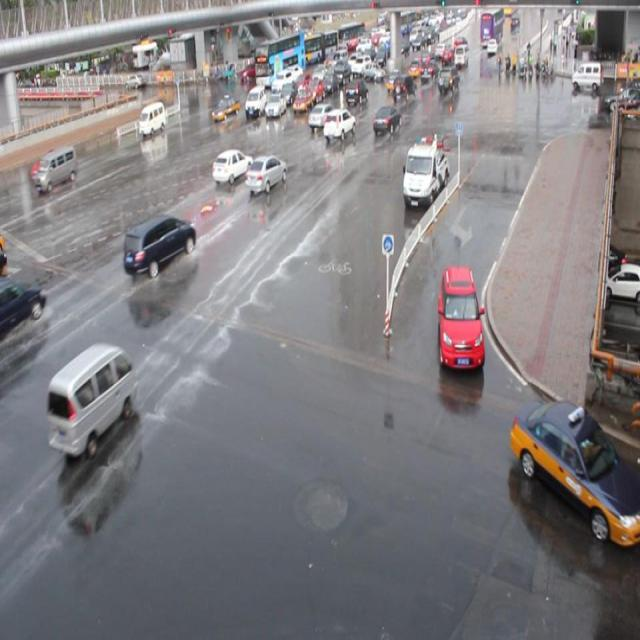bus: (401, 135, 448, 203)
car: (509, 395, 640, 544), (436, 265, 484, 370), (122, 214, 196, 278), (1, 277, 46, 335), (244, 154, 286, 193), (211, 148, 253, 184), (323, 108, 355, 141), (31, 147, 62, 180), (372, 105, 402, 134), (211, 94, 240, 122), (308, 103, 338, 129), (390, 72, 416, 101), (344, 80, 369, 104), (264, 90, 286, 116), (291, 85, 312, 112), (272, 70, 294, 94), (305, 75, 324, 99), (279, 79, 298, 101), (292, 70, 310, 92)
truck: (45, 342, 133, 456), (34, 146, 78, 192), (139, 101, 165, 136), (248, 84, 270, 115)
